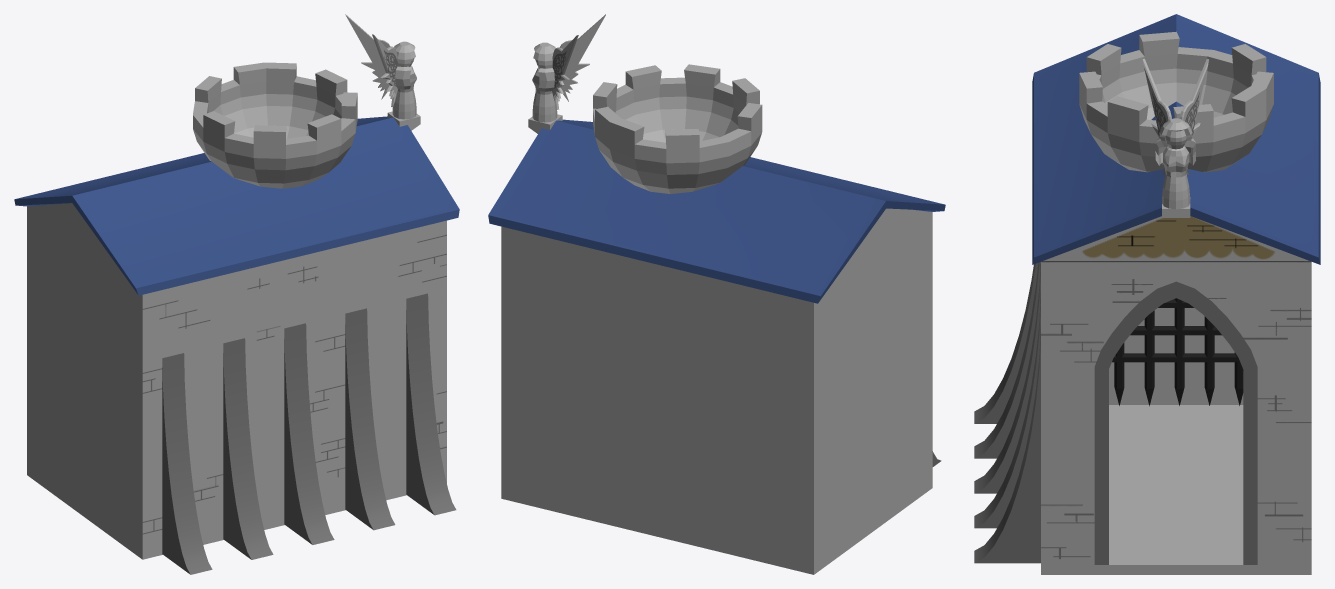
The picture shows the model from 3 angles, left to right: view 1: azimuth 30°, elevation 25°; view 2: azimuth 150°, elevation 25°; view 3: azimuth 270°, elevation 25°; orthographic projection. The views are drawn at different scales.
Parts seen in each view (by area): view 1: Base, Tower, Angel; view 2: Base, Tower, Angel; view 3: Base, Tower, Gate, Angel.
Boxes of the visible parts, x1,y1,x2,y2 form: Base: [14, 116, 459, 574]; Tower: [193, 62, 357, 188]; Angel: [345, 14, 420, 130]; Base: [488, 119, 945, 574]; Tower: [593, 64, 762, 193]; Angel: [528, 14, 605, 133]; Base: [974, 14, 1320, 574]; Tower: [1079, 31, 1273, 172]; Gate: [1112, 298, 1243, 406]; Angel: [1142, 59, 1208, 217].
Bounding box in the file's own units: 357 × 424 × 267.
